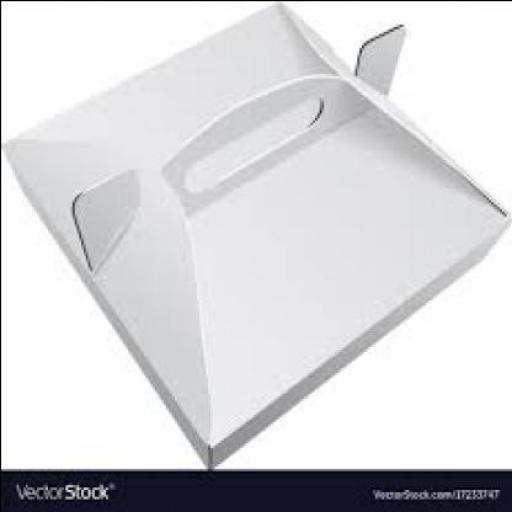cardboard: (1, 1, 510, 465)
